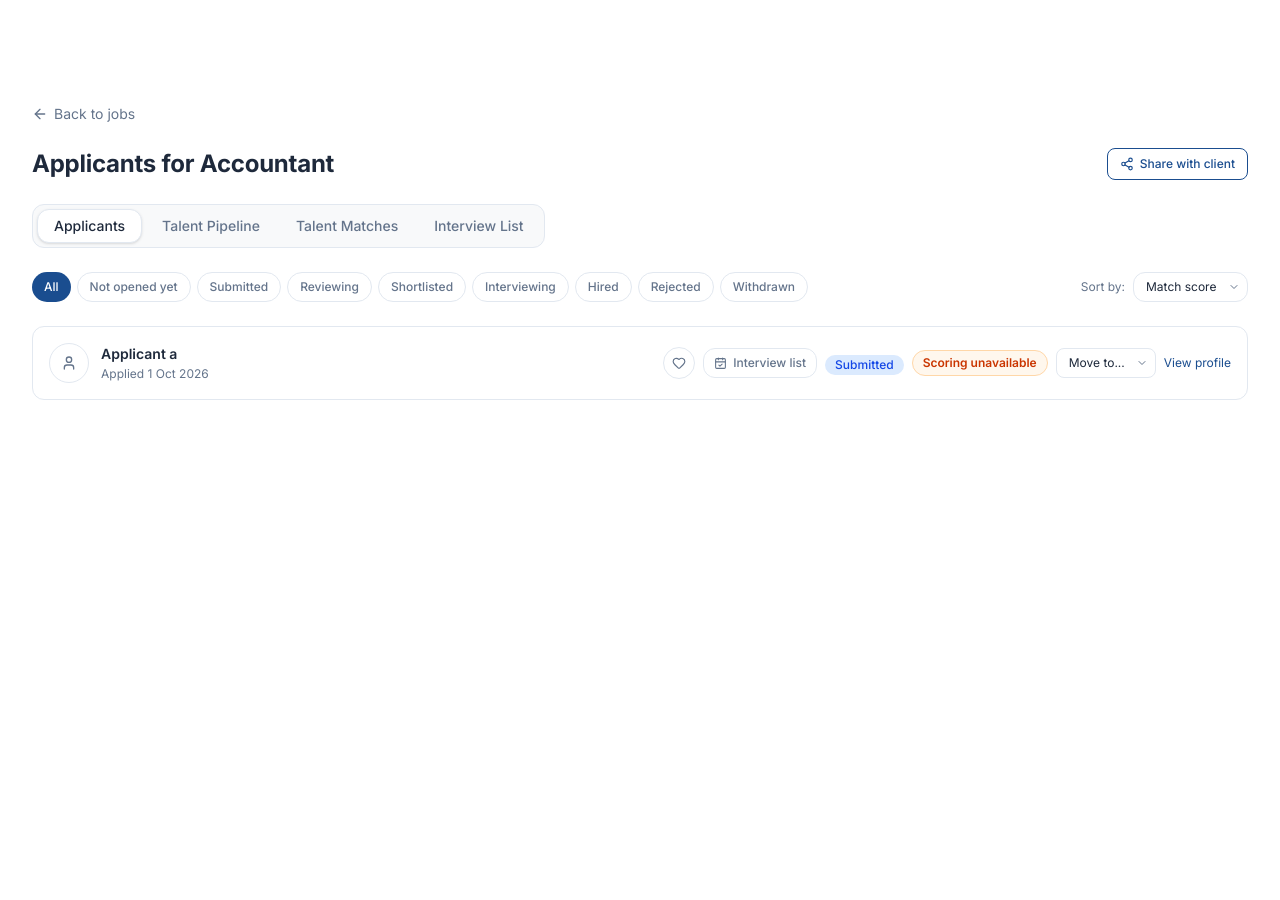
ApplicantsPage, applicants with no score › says scoring was unavailable, and that it is not a low score
Expected: the text "Applicant a" is shown, [101,345,177,362]
Click the button with aria-label "Match score: Scoring unavailable". click: [980, 363]
box: [912,350,1048,376]
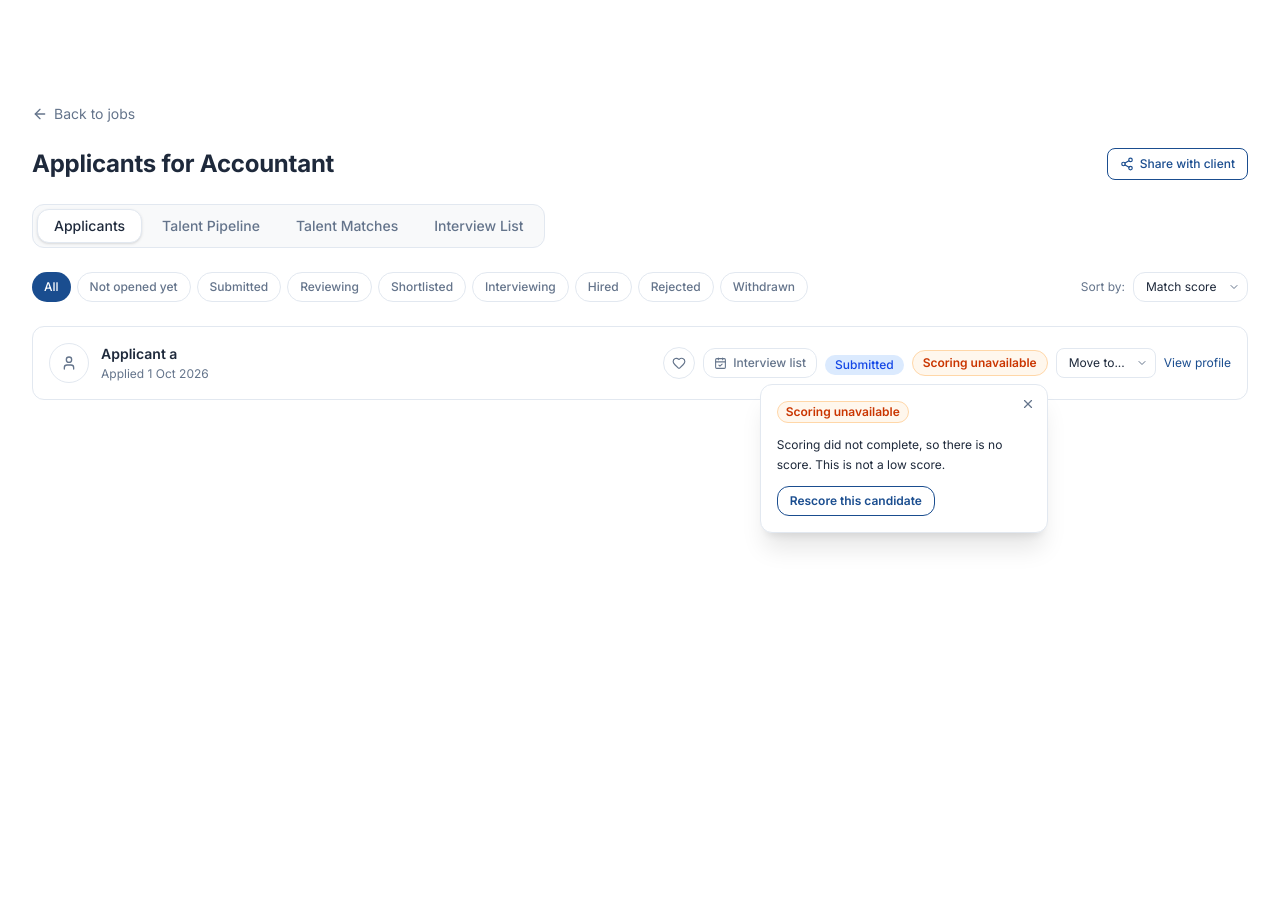
Expected: the dialog named "Fit reasoning" shows "not a low score", [777,437,1002,472]
